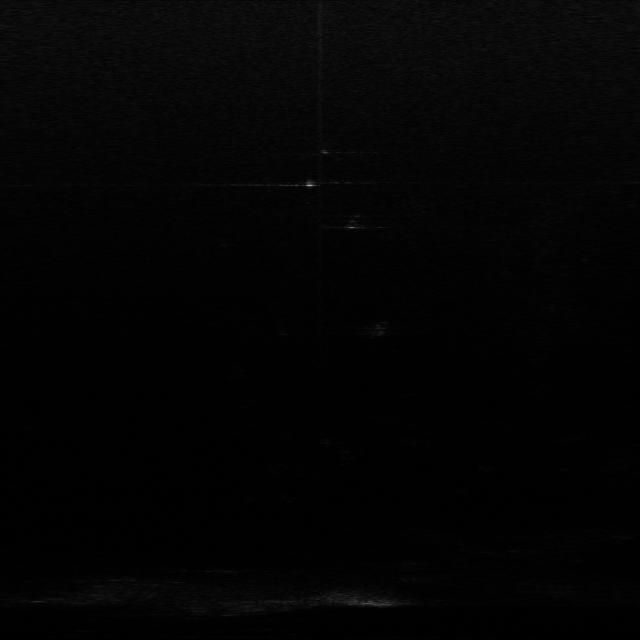rov: (341, 211, 368, 233)
